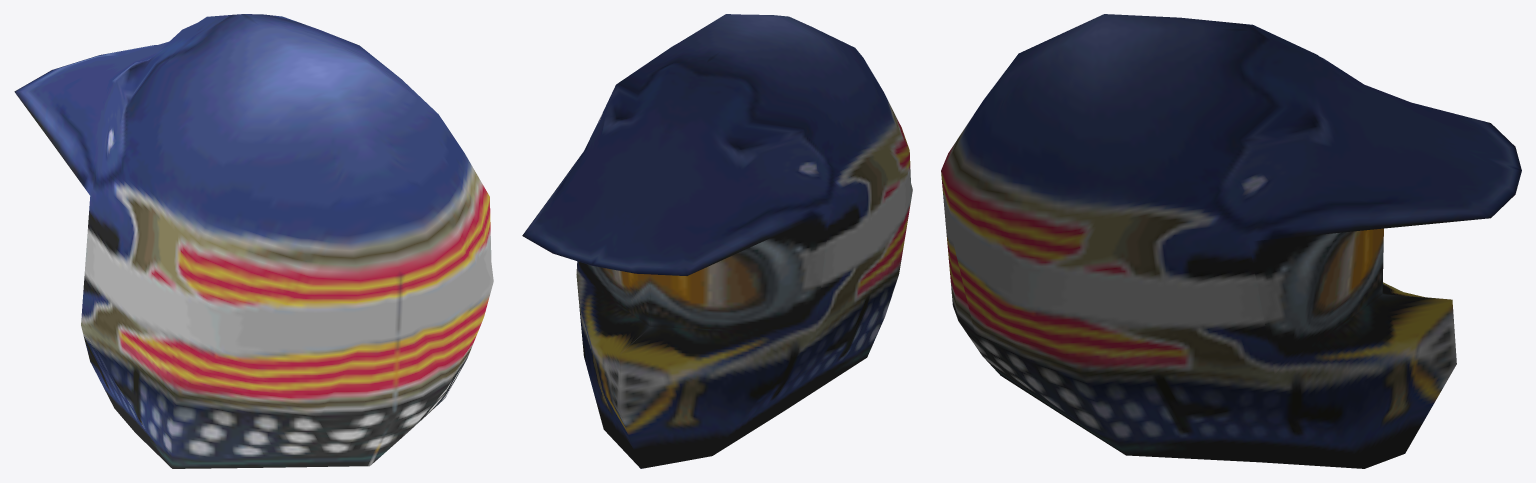
File: lowicon.ico.obj
The picture shows the model from 3 angles, left to right: view 1: azimuth 30°, elevation 25°; view 2: azimuth 150°, elevation 25°; view 3: azimuth 270°, elevation 25°; orthographic projection. The views are drawn at different scales.
Size of the model in its own units: 1.49 by 1.96 by 2.44.
1 material, 1 textured.
